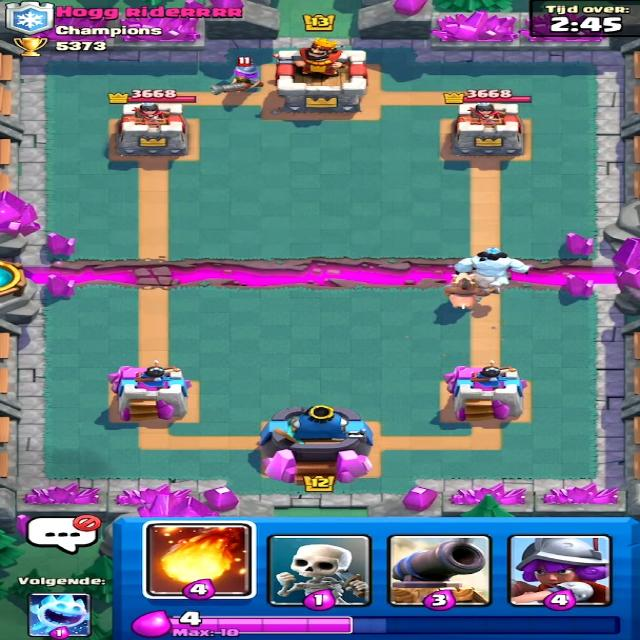Cannon_Card: (391, 532, 489, 604)
Enemy_Musketeer_Troop: (216, 56, 264, 95)
Fireball_Card: (151, 521, 256, 601)
Hog_Rider_Troop: (441, 272, 513, 312)
Ice_Golem_Troop: (448, 248, 545, 284)
Musketeer_Card: (514, 538, 616, 610)
Skeleton_Card: (264, 535, 378, 605)
